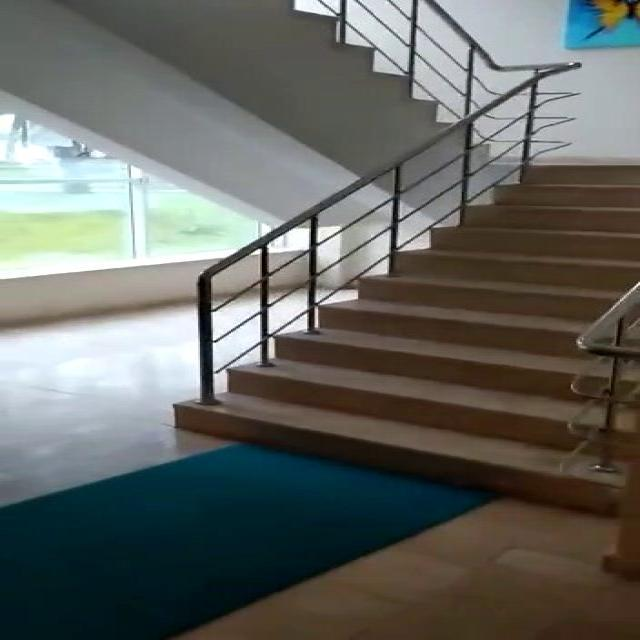stair: (166, 145, 640, 486)
